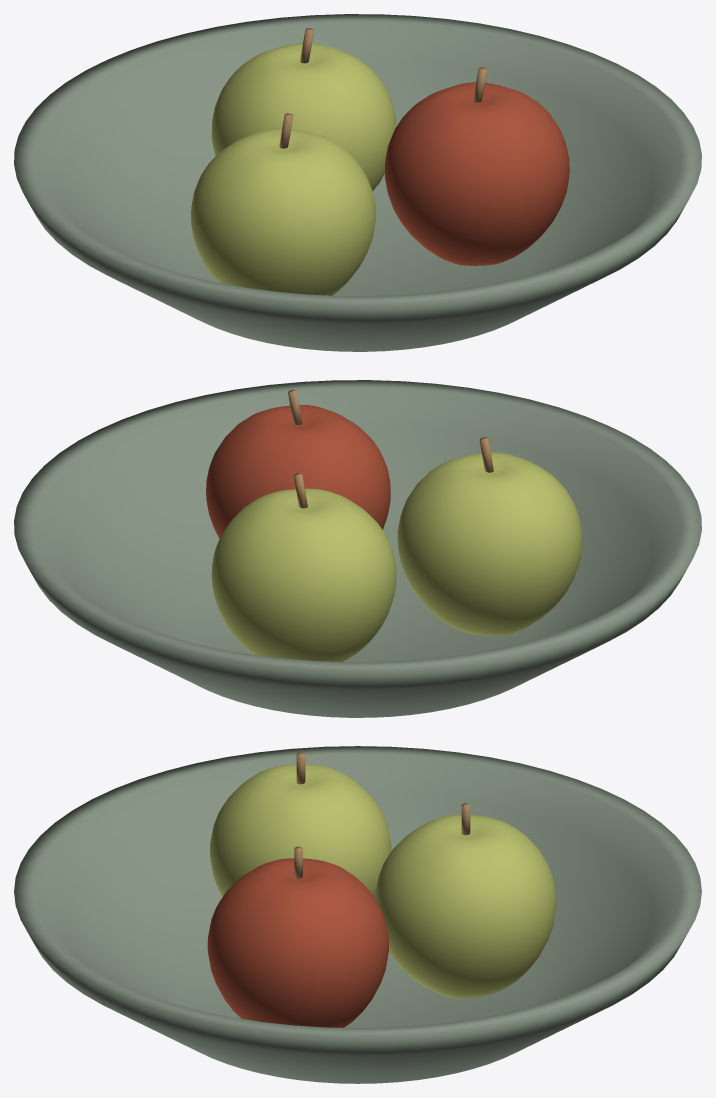
File: country.fruit_bowl.gltf
3 renders of one model, top to bottom at view 1: azimuth 30°, elevation 25°; view 2: azimuth 150°, elevation 25°; view 3: azimuth 270°, elevation 25°, orthographic.
Parts seen in each view (by area): view 1: country.fruit_bowl.stoneware; view 2: country.fruit_bowl.stoneware; view 3: country.fruit_bowl.stoneware.
Part boxes in pixels (x1,y1,x2,y2): country.fruit_bowl.stoneware: (14, 14, 701, 351); country.fruit_bowl.stoneware: (14, 380, 701, 717); country.fruit_bowl.stoneware: (14, 746, 701, 1083).
Bounding box in the file's own units: 0.3 × 0.0983 × 0.3.
Materials: 4 (1 with a texture image).
